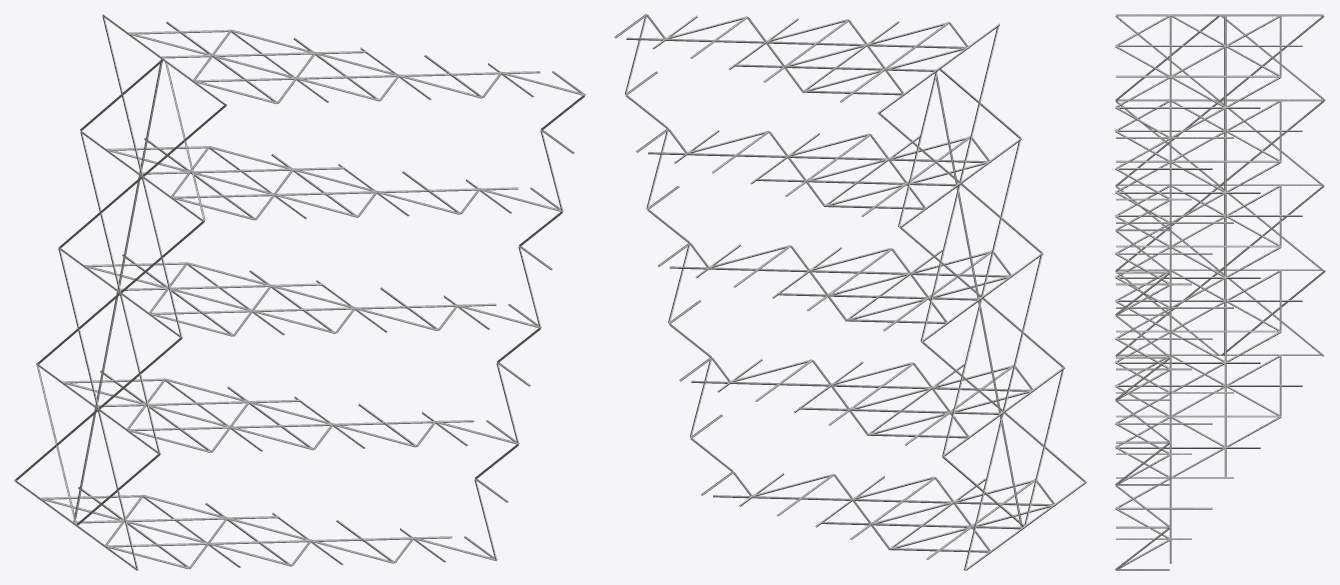
File: _0TRIBUENE_02_014_SUB2.obj
The picture shows the model from 3 angles, left to right: view 1: azimuth 30°, elevation 25°; view 2: azimuth 150°, elevation 25°; view 3: azimuth 270°, elevation 25°; orthographic projection. The views are drawn at different scales.
Visible parts, largest first — view 1: _0TRIBUENE_02_014_SUB2_Scene.160; view 2: _0TRIBUENE_02_014_SUB2_Scene.160; view 3: _0TRIBUENE_02_014_SUB2_Scene.160.
Boxes of the visible parts, x1=… form: _0TRIBUENE_02_014_SUB2_Scene.160: x1=14, y1=14, x2=585, y2=570; _0TRIBUENE_02_014_SUB2_Scene.160: x1=614, y1=14, x2=1086, y2=570; _0TRIBUENE_02_014_SUB2_Scene.160: x1=1115, y1=14, x2=1325, y2=570.
Size of the model in its own units: 3323 by 3702 by 1591.
